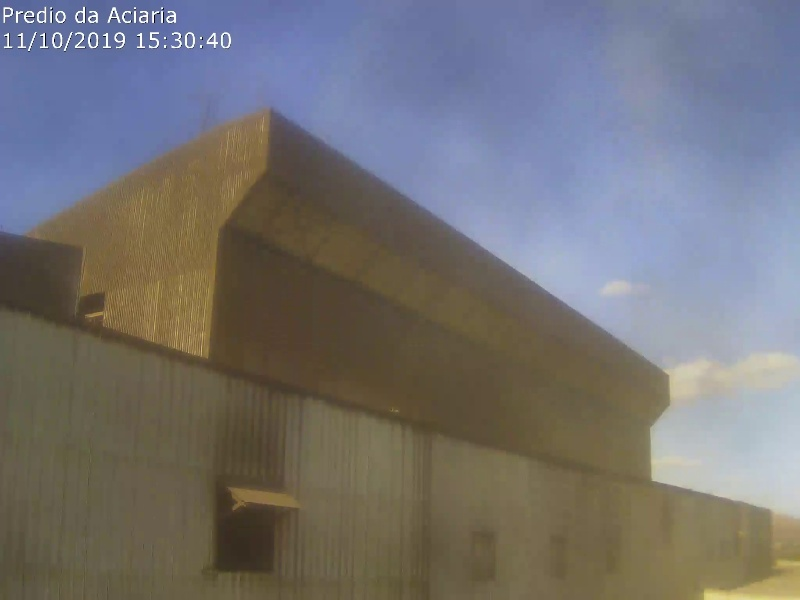ruim: (535, 35, 751, 448)
